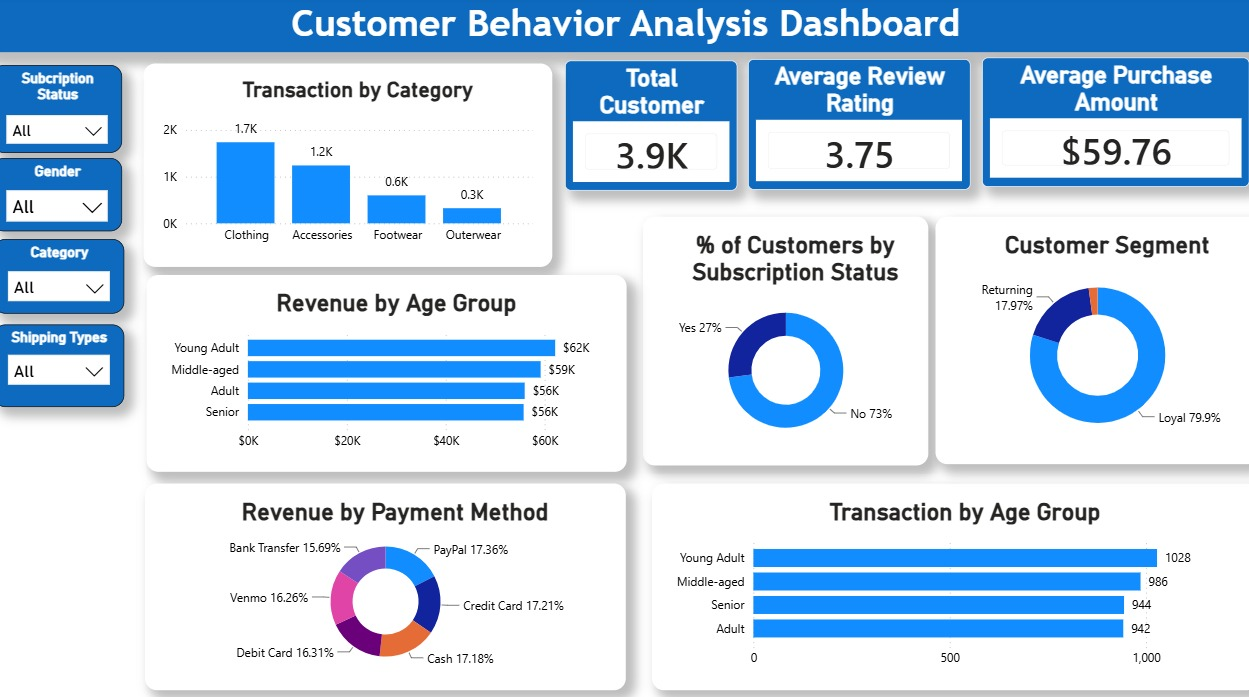

Layout of this report page (visuals, bound fields, positions):
{"tool":"powerbi","page":{"name":"Page 1","canvas":[1280,720],"ordinal":0},"visuals":[{"type":"textbox","box":[0,0,1279.4,56.7],"z":0},{"type":"cardVisual","title":"Total Customer","fields":{"Data":["Count(customer_behavior customer.customer_id)"]},"box":[168.2,69.9,323.2,115.3],"z":1000},{"type":"cardVisual","title":"Average Review Rating","fields":{"Data":["Avg(customer_behavior customer.review_rating)"]},"box":[519.7,68,379.8,115.3],"z":2000},{"type":"cardVisual","title":"Average Purchase Amount","fields":{"Data":["Avg(customer_behavior customer.purchase_amount)"]},"box":[926,66.1,342,117.2],"z":3000},{"type":"donutChart","title":"% of Customers by Subscription Status","fields":{"Category":["customer_behavior customer.subscription_status"],"Y":["CountNonNull(customer_behavior customer.customer_id)"]},"box":[170.1,196.5,328.8,247.6],"z":4000},{"type":"columnChart","title":"Revenue by Category","fields":{"Category":["customer_behavior customer.category"],"Y":["Sum(customer_behavior customer.purchase_amount)"]},"box":[521.6,196.5,379.8,249.5],"z":5000},{"type":"columnChart","title":"Sales by Category","fields":{"Category":["customer_behavior customer.category"],"Y":["CountNonNull(customer_behavior customer.customer_id)"]},"box":[926,190.9,343.9,253.2],"z":6000},{"type":"clusteredBarChart","title":"Revenue by Age Group","fields":{"Category":["customer_behavior customer.age_group"],"Y":["Sum(customer_behavior customer.purchase_amount)"]},"box":[168.2,457.3,540.5,232.4],"z":7000},{"type":"clusteredBarChart","title":"Sales by Age Group","fields":{"Category":["customer_behavior customer.age_group"],"Y":["CountNonNull(customer_behavior customer.customer_id)"]},"box":[729.5,457.3,540.5,232.4],"z":8000},{"type":"slicer","title":"Subcription Status","fields":{"Values":["customer_behavior customer.subscription_status"]},"box":[0,124.7,149.3,85],"z":9000},{"type":"slicer","title":"Gender","fields":{"Values":["customer_behavior customer.gender"]},"box":[0,232.4,149.3,83.2],"z":10000},{"type":"slicer","title":"Category","fields":{"Values":["customer_behavior customer.category"]},"box":[0,342,149.3,81.3],"z":11000},{"type":"slicer","title":"Shipping Types","fields":{"Values":["customer_behavior customer.shipping_type"]},"box":[0,444.1,149.3,75.6],"z":12000}]}

Visuals, with their boxes in screenshot pixels (x1, y1, x2, y2), scaled from the page's 1280x720 canvas onto the 1249x697 screenshot:
textbox: locate(0, 0, 1248, 55)
"Total Customer" cardVisual: locate(164, 68, 479, 179)
"Average Review Rating" cardVisual: locate(507, 66, 878, 177)
"Average Purchase Amount" cardVisual: locate(904, 64, 1237, 177)
"% of Customers by Subscription Status" donutChart: locate(166, 190, 487, 430)
"Revenue by Category" columnChart: locate(509, 190, 880, 432)
"Sales by Category" columnChart: locate(904, 185, 1239, 430)
"Revenue by Age Group" clusteredBarChart: locate(164, 443, 692, 668)
"Sales by Age Group" clusteredBarChart: locate(712, 443, 1239, 668)
"Subcription Status" slicer: locate(0, 121, 146, 203)
"Gender" slicer: locate(0, 225, 146, 306)
"Category" slicer: locate(0, 331, 146, 410)
"Shipping Types" slicer: locate(0, 430, 146, 503)
